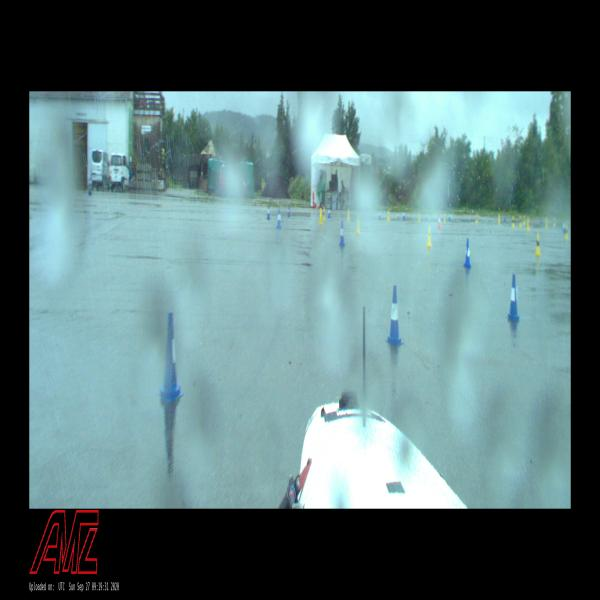blue_cone: (156, 312, 184, 402), (385, 286, 404, 345), (506, 274, 520, 319), (463, 238, 472, 268), (339, 220, 345, 246), (276, 209, 282, 229), (266, 205, 271, 220), (287, 205, 291, 217), (378, 209, 381, 220), (403, 210, 406, 220), (563, 221, 565, 232), (328, 208, 330, 218)
orange_cone: (437, 213, 442, 229)
yellow_cone: (535, 232, 541, 256), (426, 225, 432, 247), (356, 216, 360, 234), (319, 208, 323, 225), (323, 207, 326, 221), (387, 210, 390, 222), (347, 208, 350, 220), (512, 216, 515, 227), (519, 216, 522, 226), (443, 212, 446, 222), (475, 214, 478, 223), (498, 215, 501, 224), (527, 219, 529, 231), (566, 226, 568, 238), (418, 212, 420, 223), (546, 218, 548, 228), (523, 216, 525, 225)
